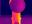Hotspot: (17, 13, 21, 23)
